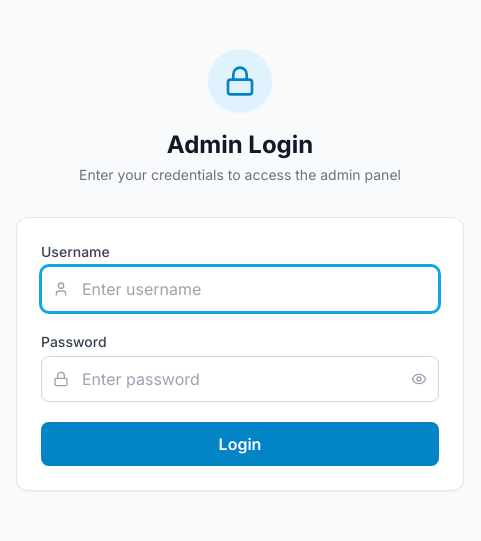
Test: AdminLogin › should show error message on failed login
Step 1. Type "admin" into the field with placeholder "Enter username" → [240, 289], box [41, 266, 439, 312]
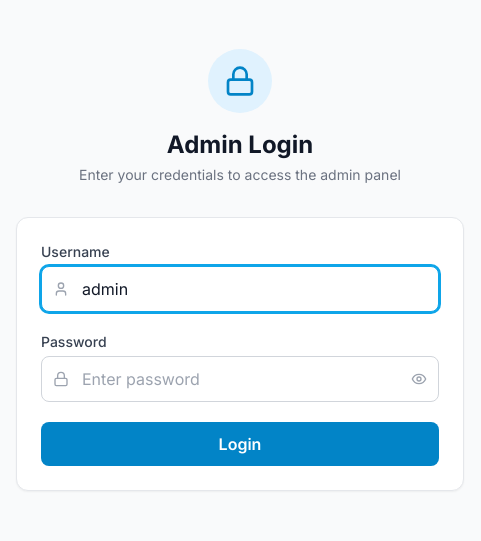
Step 2. Type "wrong" into the password field with placeholder "Enter password" → [240, 379], box [41, 356, 439, 402]
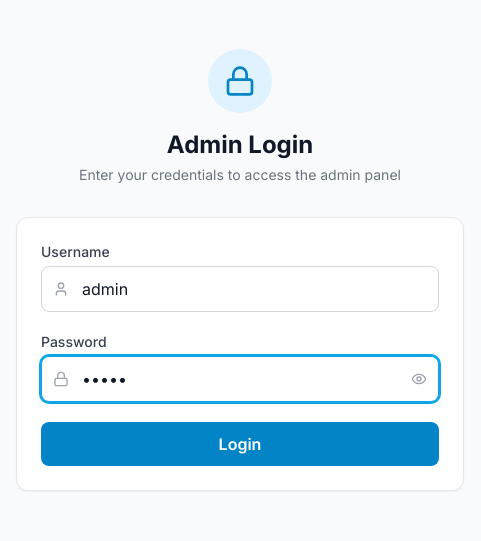
Step 3. Click the button "Login" → [240, 444], box [41, 422, 439, 466]
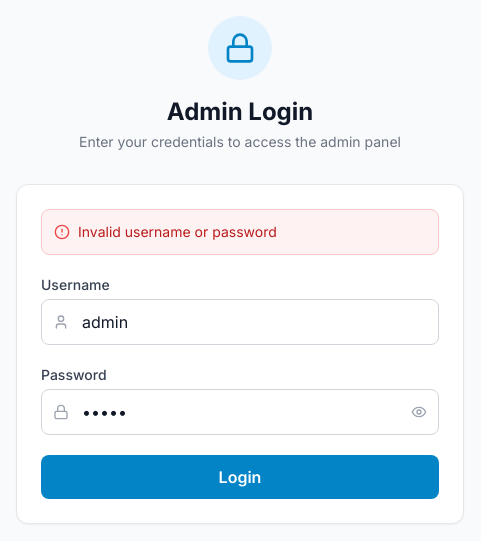
expect the text "Invalid username or password" is shown: met, box [78, 222, 277, 242]
